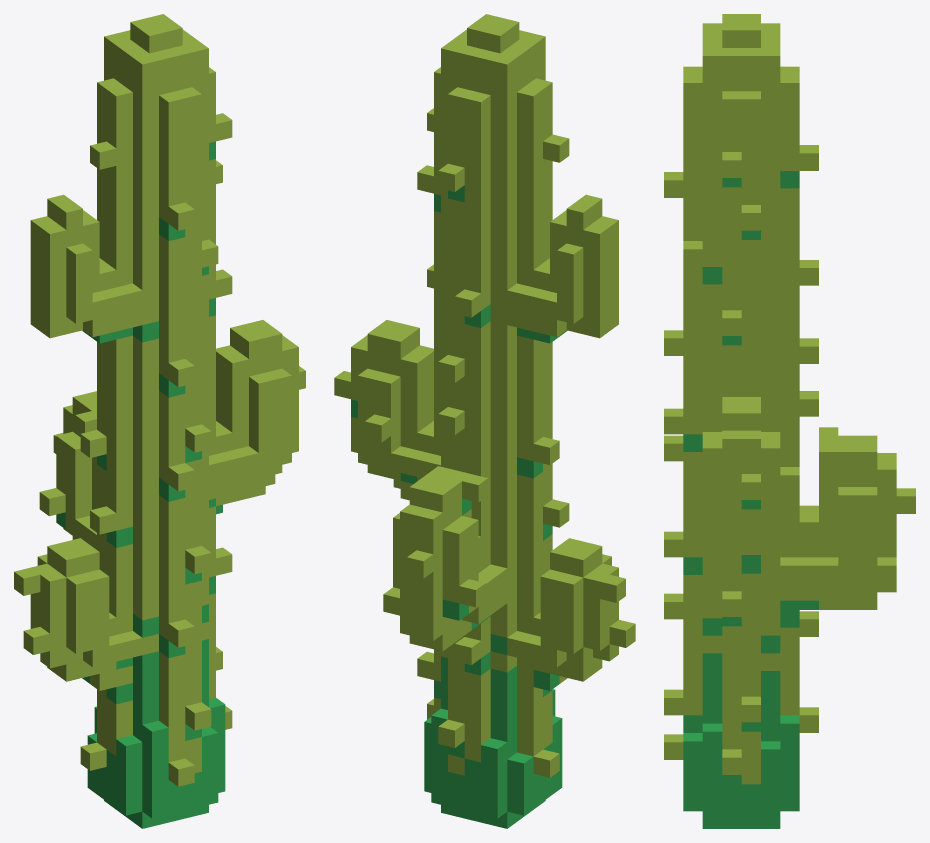
Rendered from CactusGiant.fbx.
3 renders of one model, left to right at view 1: azimuth 30°, elevation 25°; view 2: azimuth 150°, elevation 25°; view 3: azimuth 270°, elevation 25°, orthographic.
Parts seen in each view (by area): view 1: CactusGiant; view 2: CactusGiant; view 3: CactusGiant.
Part boxes in pixels (bbox=[...]): CactusGiant: bbox=[14, 14, 305, 828]; CactusGiant: bbox=[334, 14, 635, 828]; CactusGiant: bbox=[664, 14, 915, 828].
Size of the model in its own units: 170 by 450 by 130.
